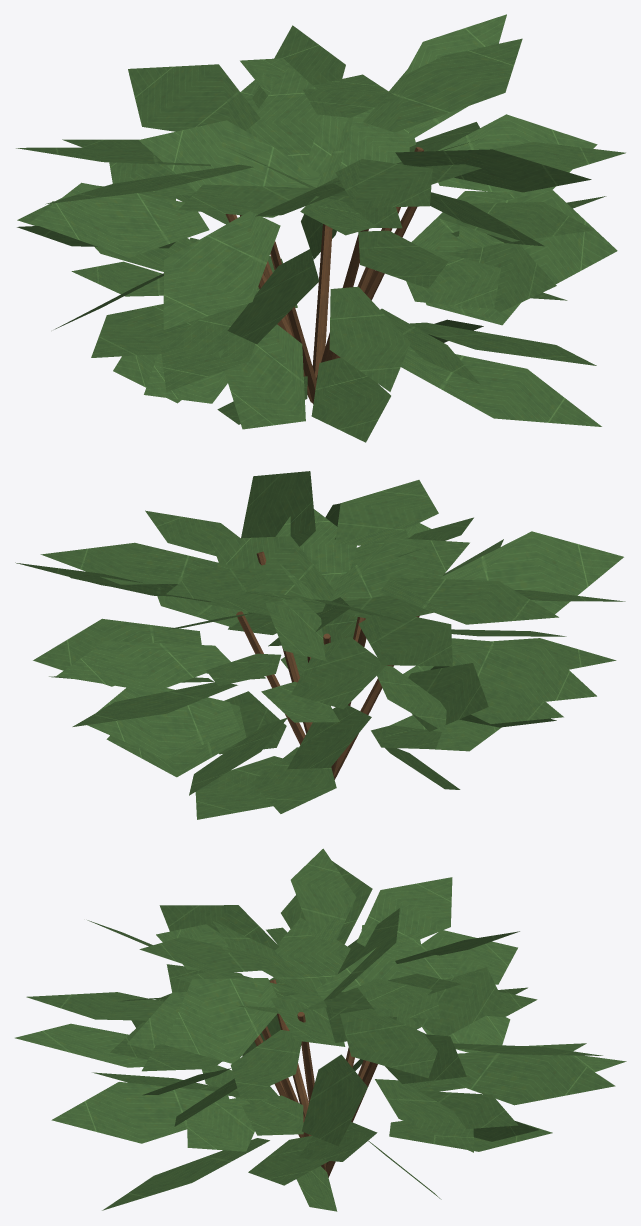
Rendered from en-009_broadleaf_bush_set__medium.obj.
3 views of the same model, one above another, from view 1: azimuth 30°, elevation 25°; view 2: azimuth 150°, elevation 25°; view 3: azimuth 270°, elevation 25° (orthographic). The views are drawn at different scales.
Visible parts, largest first — view 1: en-009_broadleaf_bush_set__medium; view 2: en-009_broadleaf_bush_set__medium; view 3: en-009_broadleaf_bush_set__medium.
Boxes of the visible parts, left/top/right/bottom form: en-009_broadleaf_bush_set__medium: left=16, top=14, right=625, bottom=442; en-009_broadleaf_bush_set__medium: left=15, top=471, right=625, bottom=819; en-009_broadleaf_bush_set__medium: left=15, top=848, right=626, bottom=1211.
Size of the model in its own units: 1.44 by 0.6773 by 1.58.
Materials: 2 (2 with a texture image).
